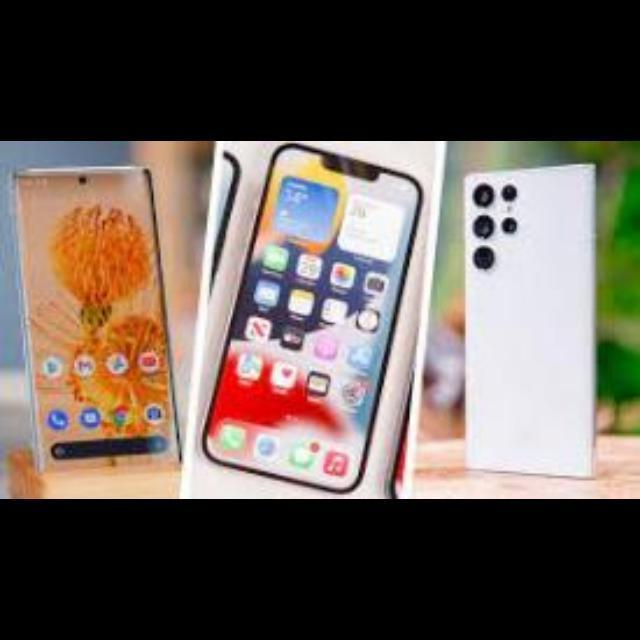phone: (201, 142, 416, 488), (1, 150, 172, 494), (461, 161, 618, 491)
